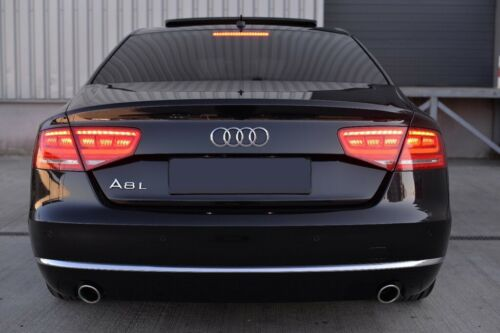audi: (203, 125, 273, 148)
